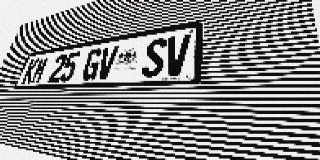2: (48, 53, 69, 83)
5: (59, 51, 81, 82)
G: (80, 48, 104, 81)
K: (21, 58, 40, 84)
M: (30, 56, 50, 84)
S: (141, 37, 168, 78)
V: (163, 34, 191, 76), (95, 45, 119, 80)
